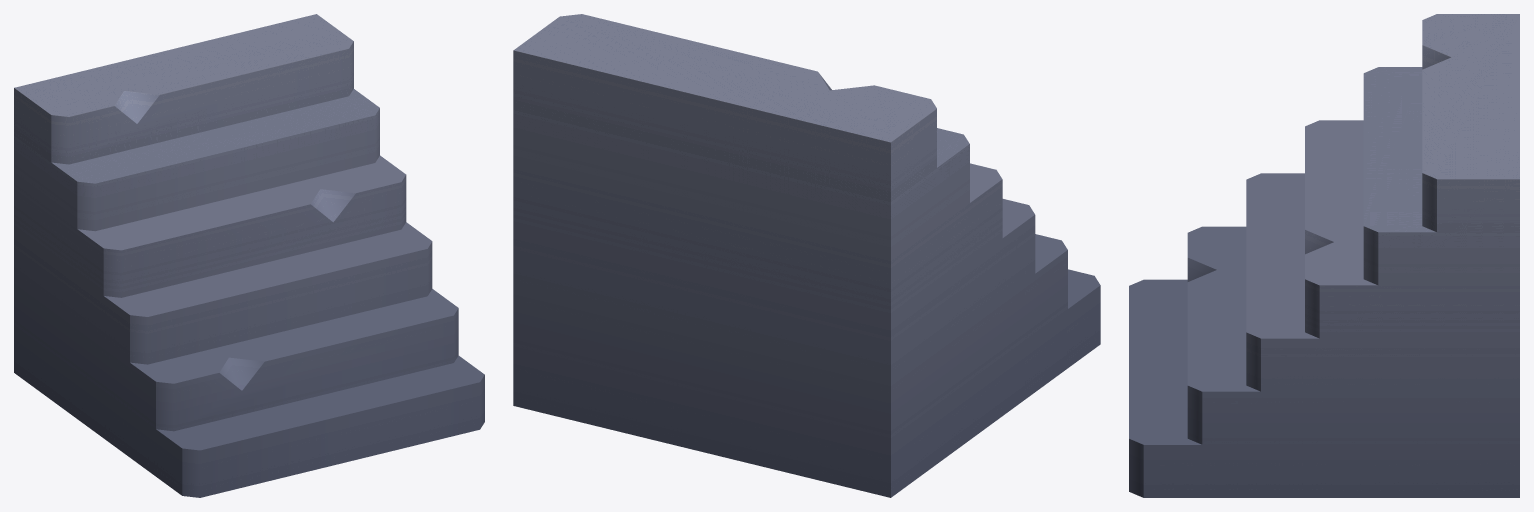
Rendered from stairs.glb.
3 renders of one model, left to right at view 1: azimuth 30°, elevation 25°; view 2: azimuth 150°, elevation 25°; view 3: azimuth 270°, elevation 25°, orthographic. The views are drawn at different scales.
Parts seen in each view (by area): view 1: stairs; view 2: stairs; view 3: stairs.
Boxes of the visible parts, x1=… form: stairs: x1=14, y1=14, x2=484, y2=497; stairs: x1=513, y1=14, x2=1100, y2=497; stairs: x1=1129, y1=14, x2=1519, y2=497.
Bounding box in the file's own units: 1 × 0.9 × 1.
1 material, 1 textured.
